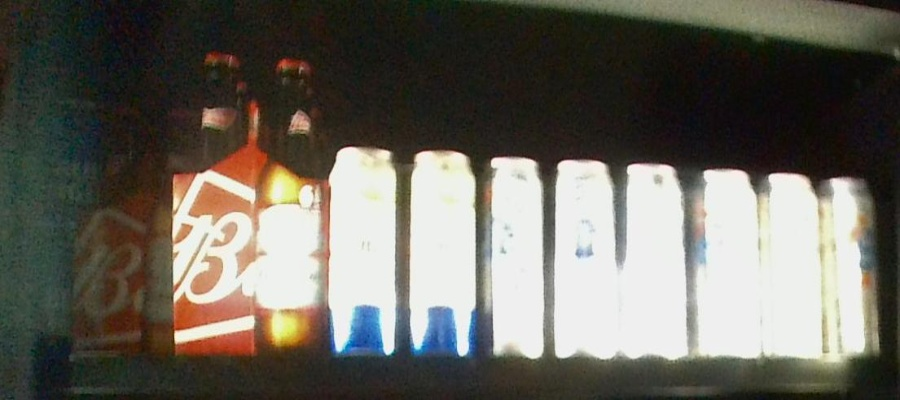bottle: (172, 50, 329, 362), (481, 153, 687, 363), (696, 165, 881, 359), (332, 146, 475, 357), (77, 101, 175, 357)
